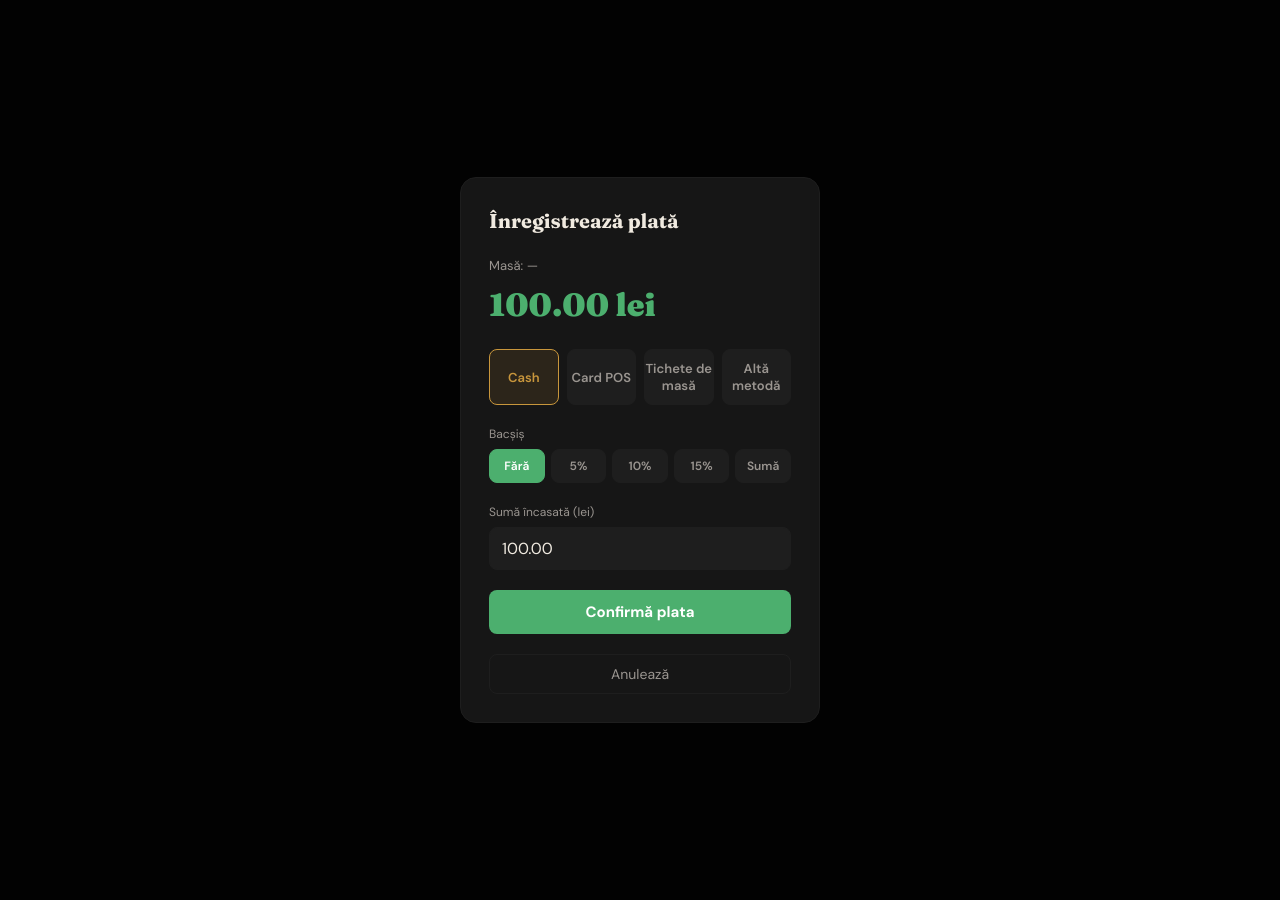
Scenario: PayModal — hint-urile serverului și pre-flight-ul de sumă › refuzul serverului se afișează ÎN modal, cu textul lui; butonul se redeblochează
Click the button "Confirmă plata". click: [640, 612]
box: [489,590,791,634]
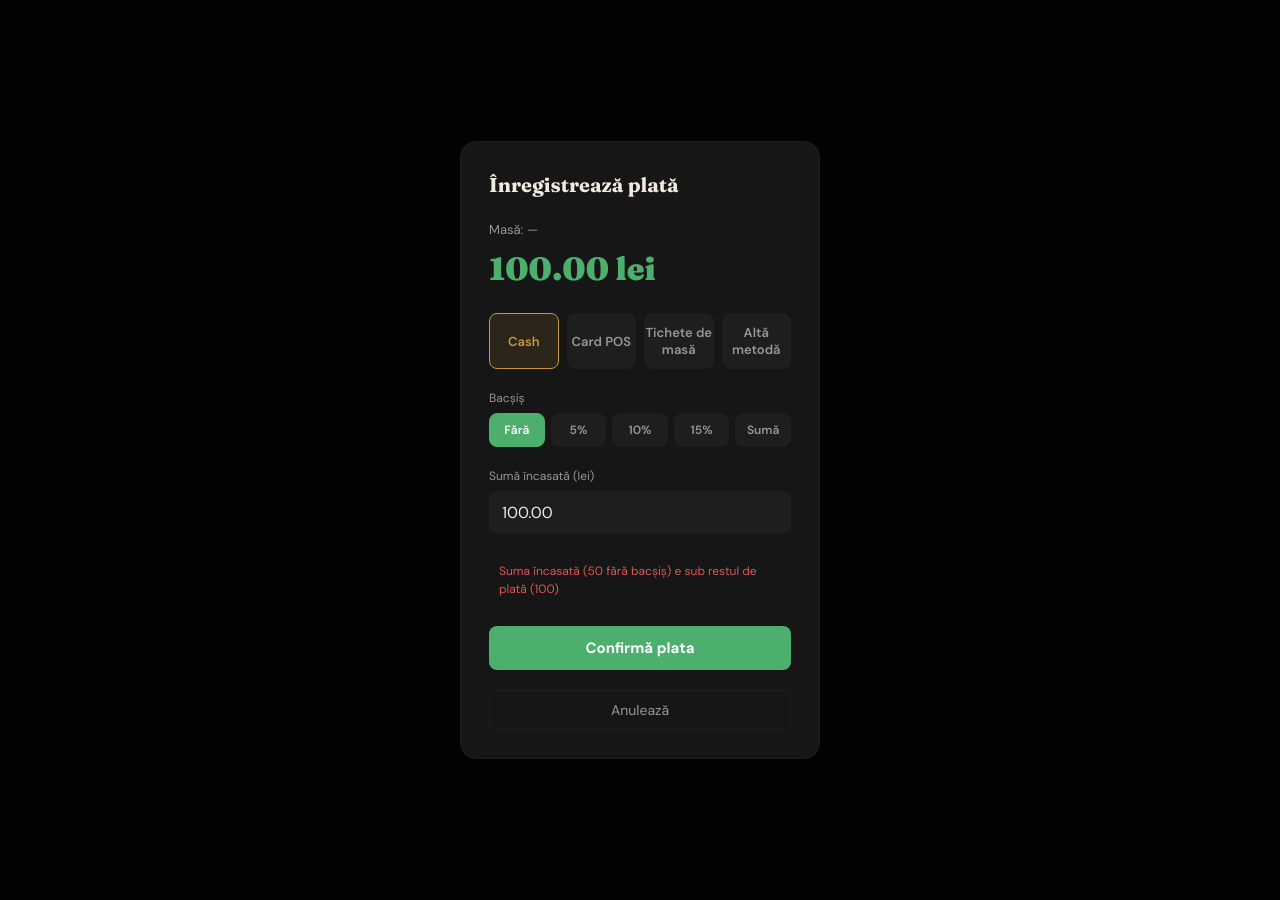
Expected: the button "Confirmă plata" is enabled, [489,626,791,670]
Expected: the message shows "50 fără bacșiș", [499,563,757,597]
